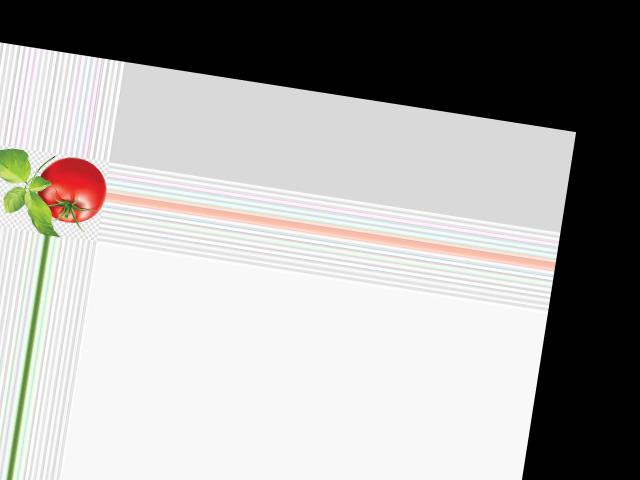tomato: (33, 152, 110, 227)
